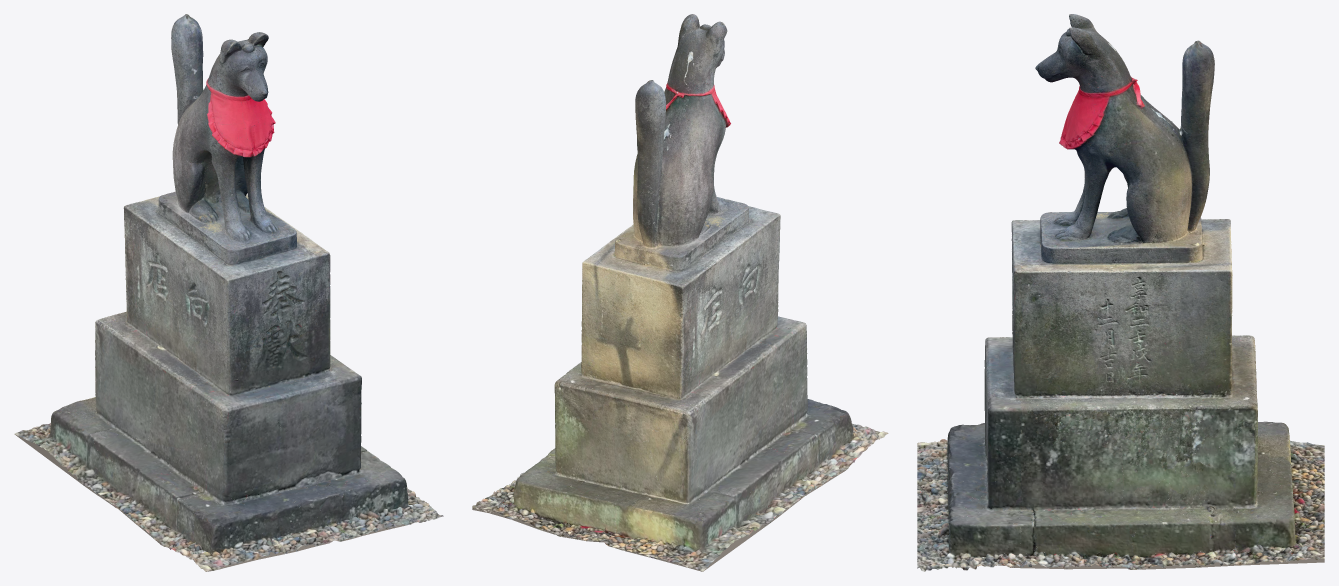
The model's file is loboBoy_optimized.glb.
3 renders of one model, left to right at view 1: azimuth 30°, elevation 25°; view 2: azimuth 150°, elevation 25°; view 3: azimuth 270°, elevation 25°, orthographic. The views are drawn at different scales.
Size of the model in its own units: 0.21 by 0.3877 by 0.2931.
2 materials, 2 textured.
